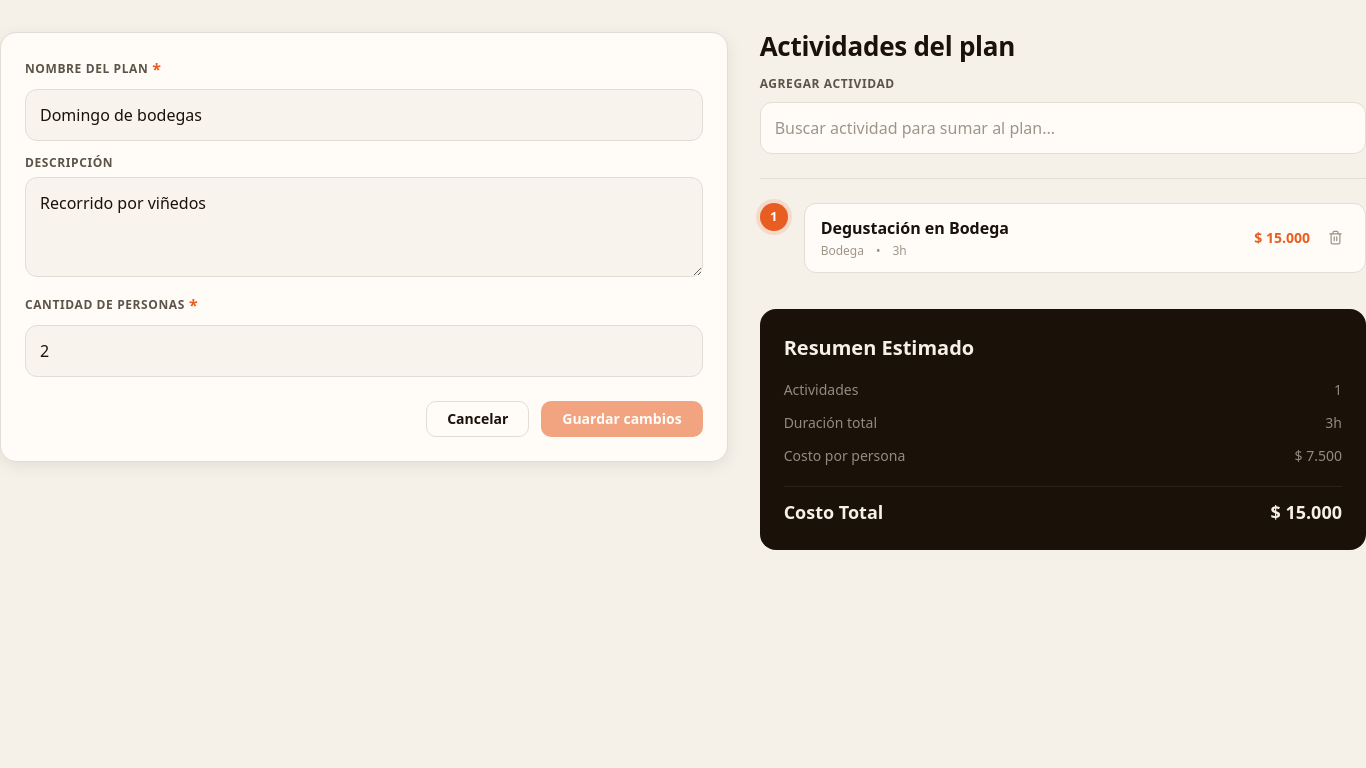
Scenario: EditPlanForm › warns before discarding changes when cancel is clicked
Type " Modificado" into the field labelled "Nombre del plan" at [364, 115], box [25, 89, 703, 141]
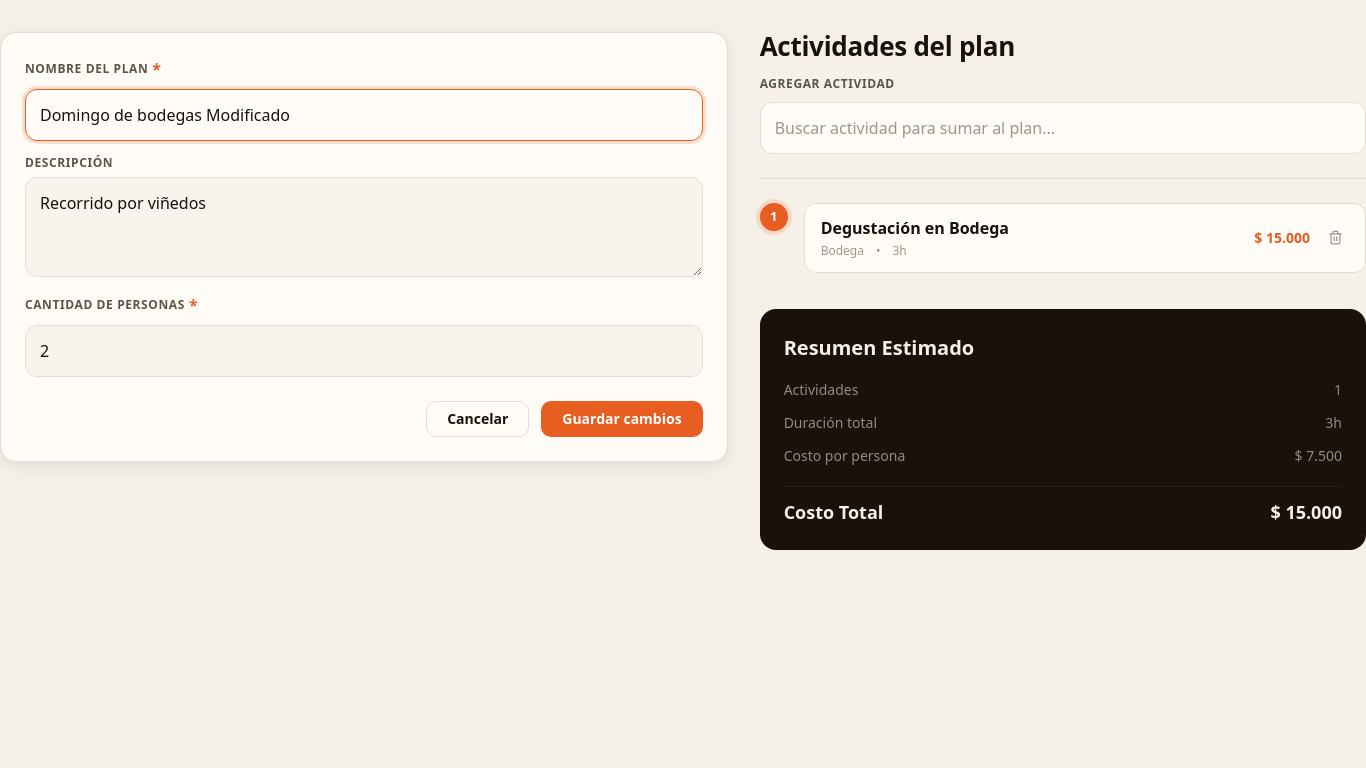
Click the button "Cancelar" at [478, 419], box [426, 401, 529, 437]
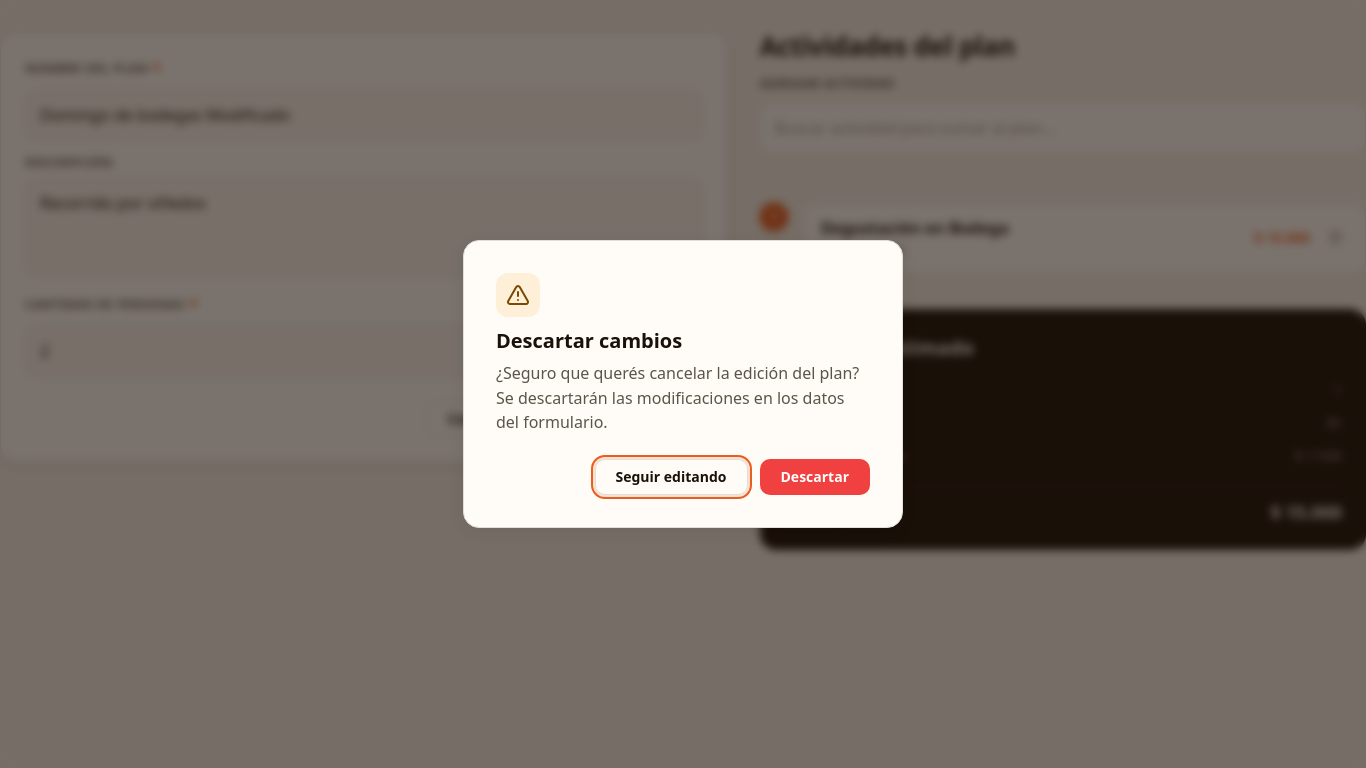
Now the heading "Descartar cambios" is shown, box [496, 327, 682, 354]
Now the button "Descartar" is shown, box [760, 459, 870, 495]
